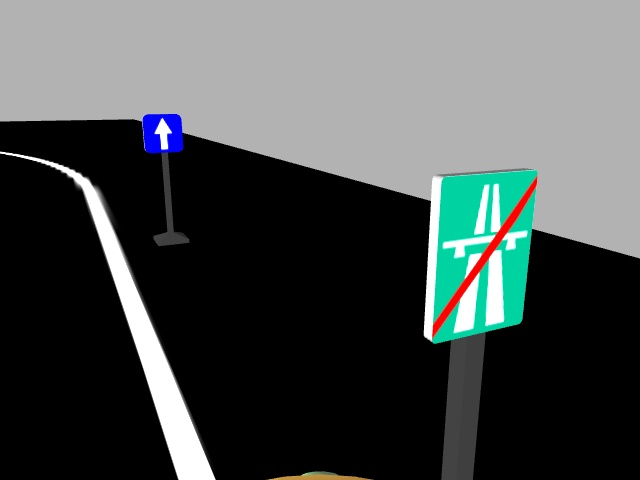HighwayExit: (416, 164, 538, 339)
OneWay: (138, 112, 185, 153)
